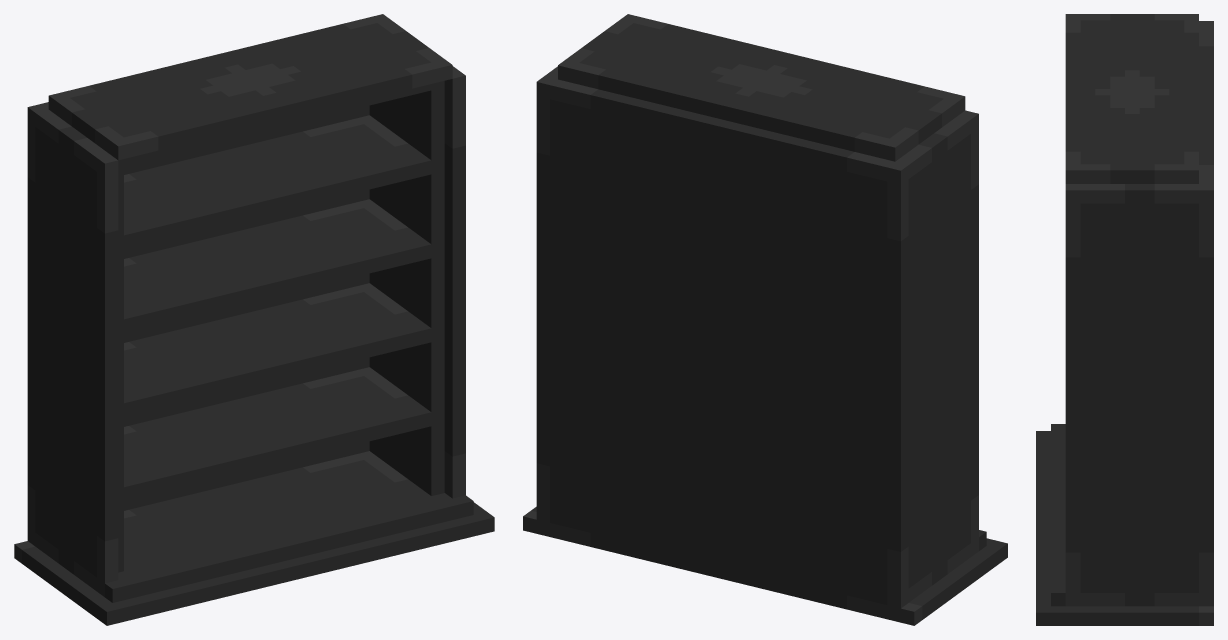
File: Decor-57.obj
The picture shows the model from 3 angles, left to right: view 1: azimuth 30°, elevation 25°; view 2: azimuth 150°, elevation 25°; view 3: azimuth 270°, elevation 25°; orthographic projection. The views are drawn at different scales.
Bounding box in the file's own units: 2.9 × 3.3 × 1.2.
1 material, 1 textured.
